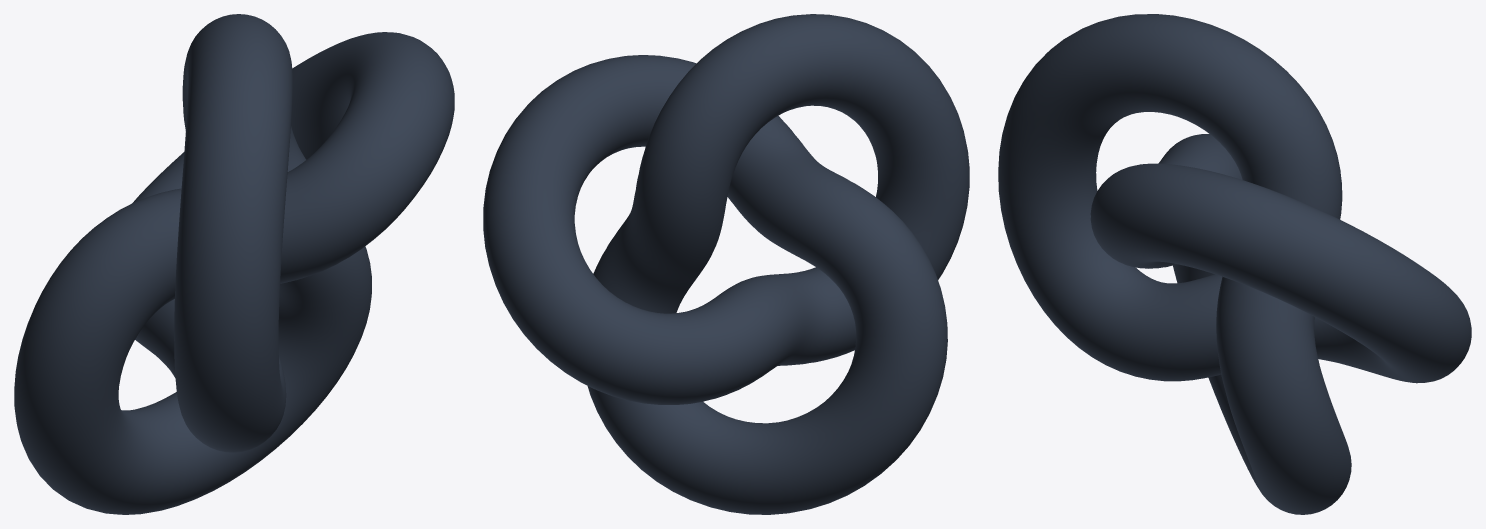
File: gear.gltf
3 renders of one model, left to right at view 1: azimuth 30°, elevation 25°; view 2: azimuth 150°, elevation 25°; view 3: azimuth 270°, elevation 25°, orthographic. The views are drawn at different scales.
Size of the model in its own units: 2.47 by 2.68 by 2.41.
